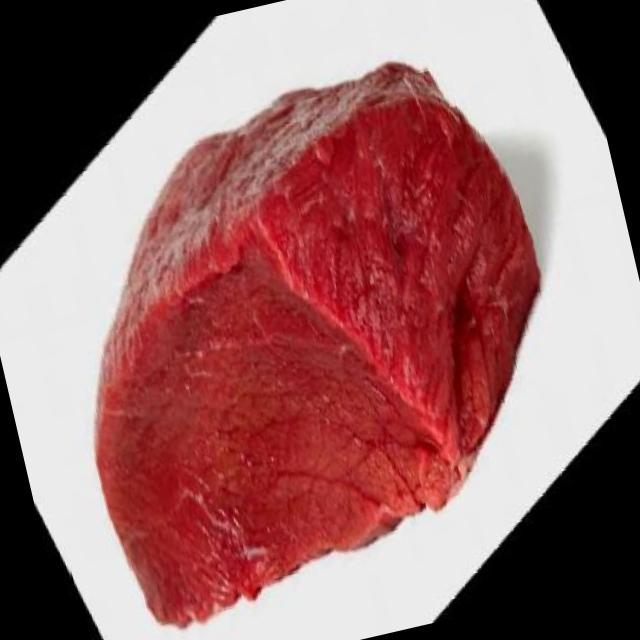beef: (9, 24, 611, 640)
